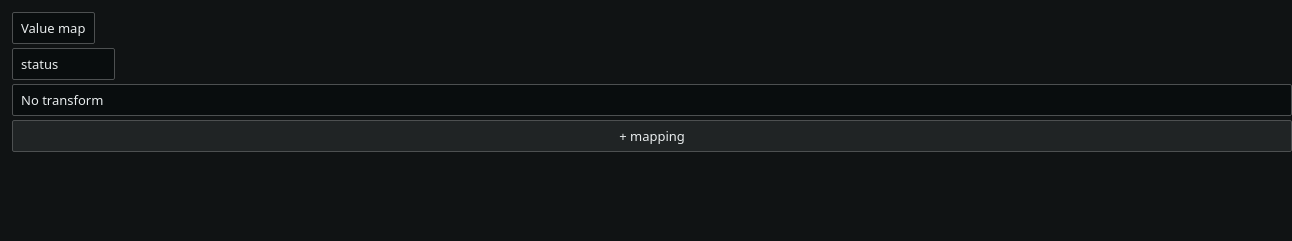
Scenario: + mapping adds a new empty row even while the last row is still empty
The width and height of the screenshot is (1292, 241).
Click the button "+ mapping" at x=652, y=136, box [12,120,1291,152]
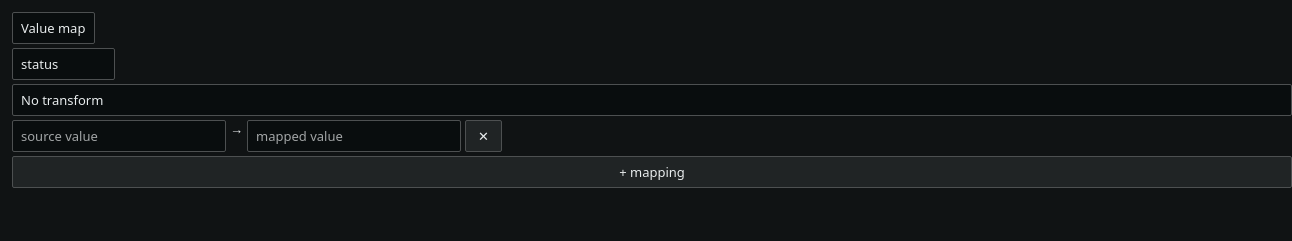
Click the button "+ mapping" at x=652, y=172, box [12,156,1291,188]
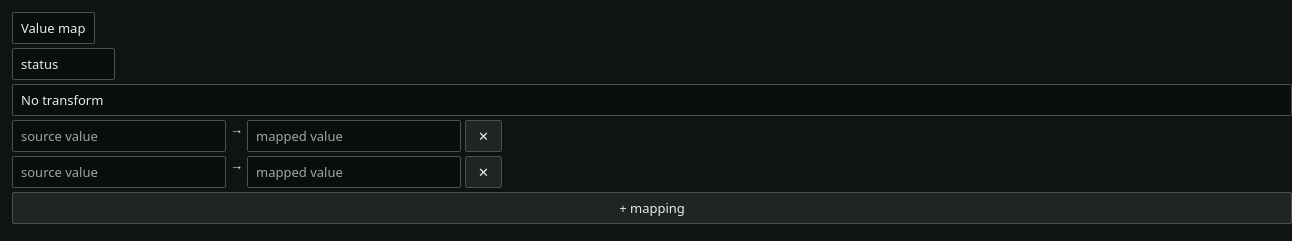
Result: the number of fields with placeholder "source value" is 2 at [12,120,226,152]; [12,156,226,188]
